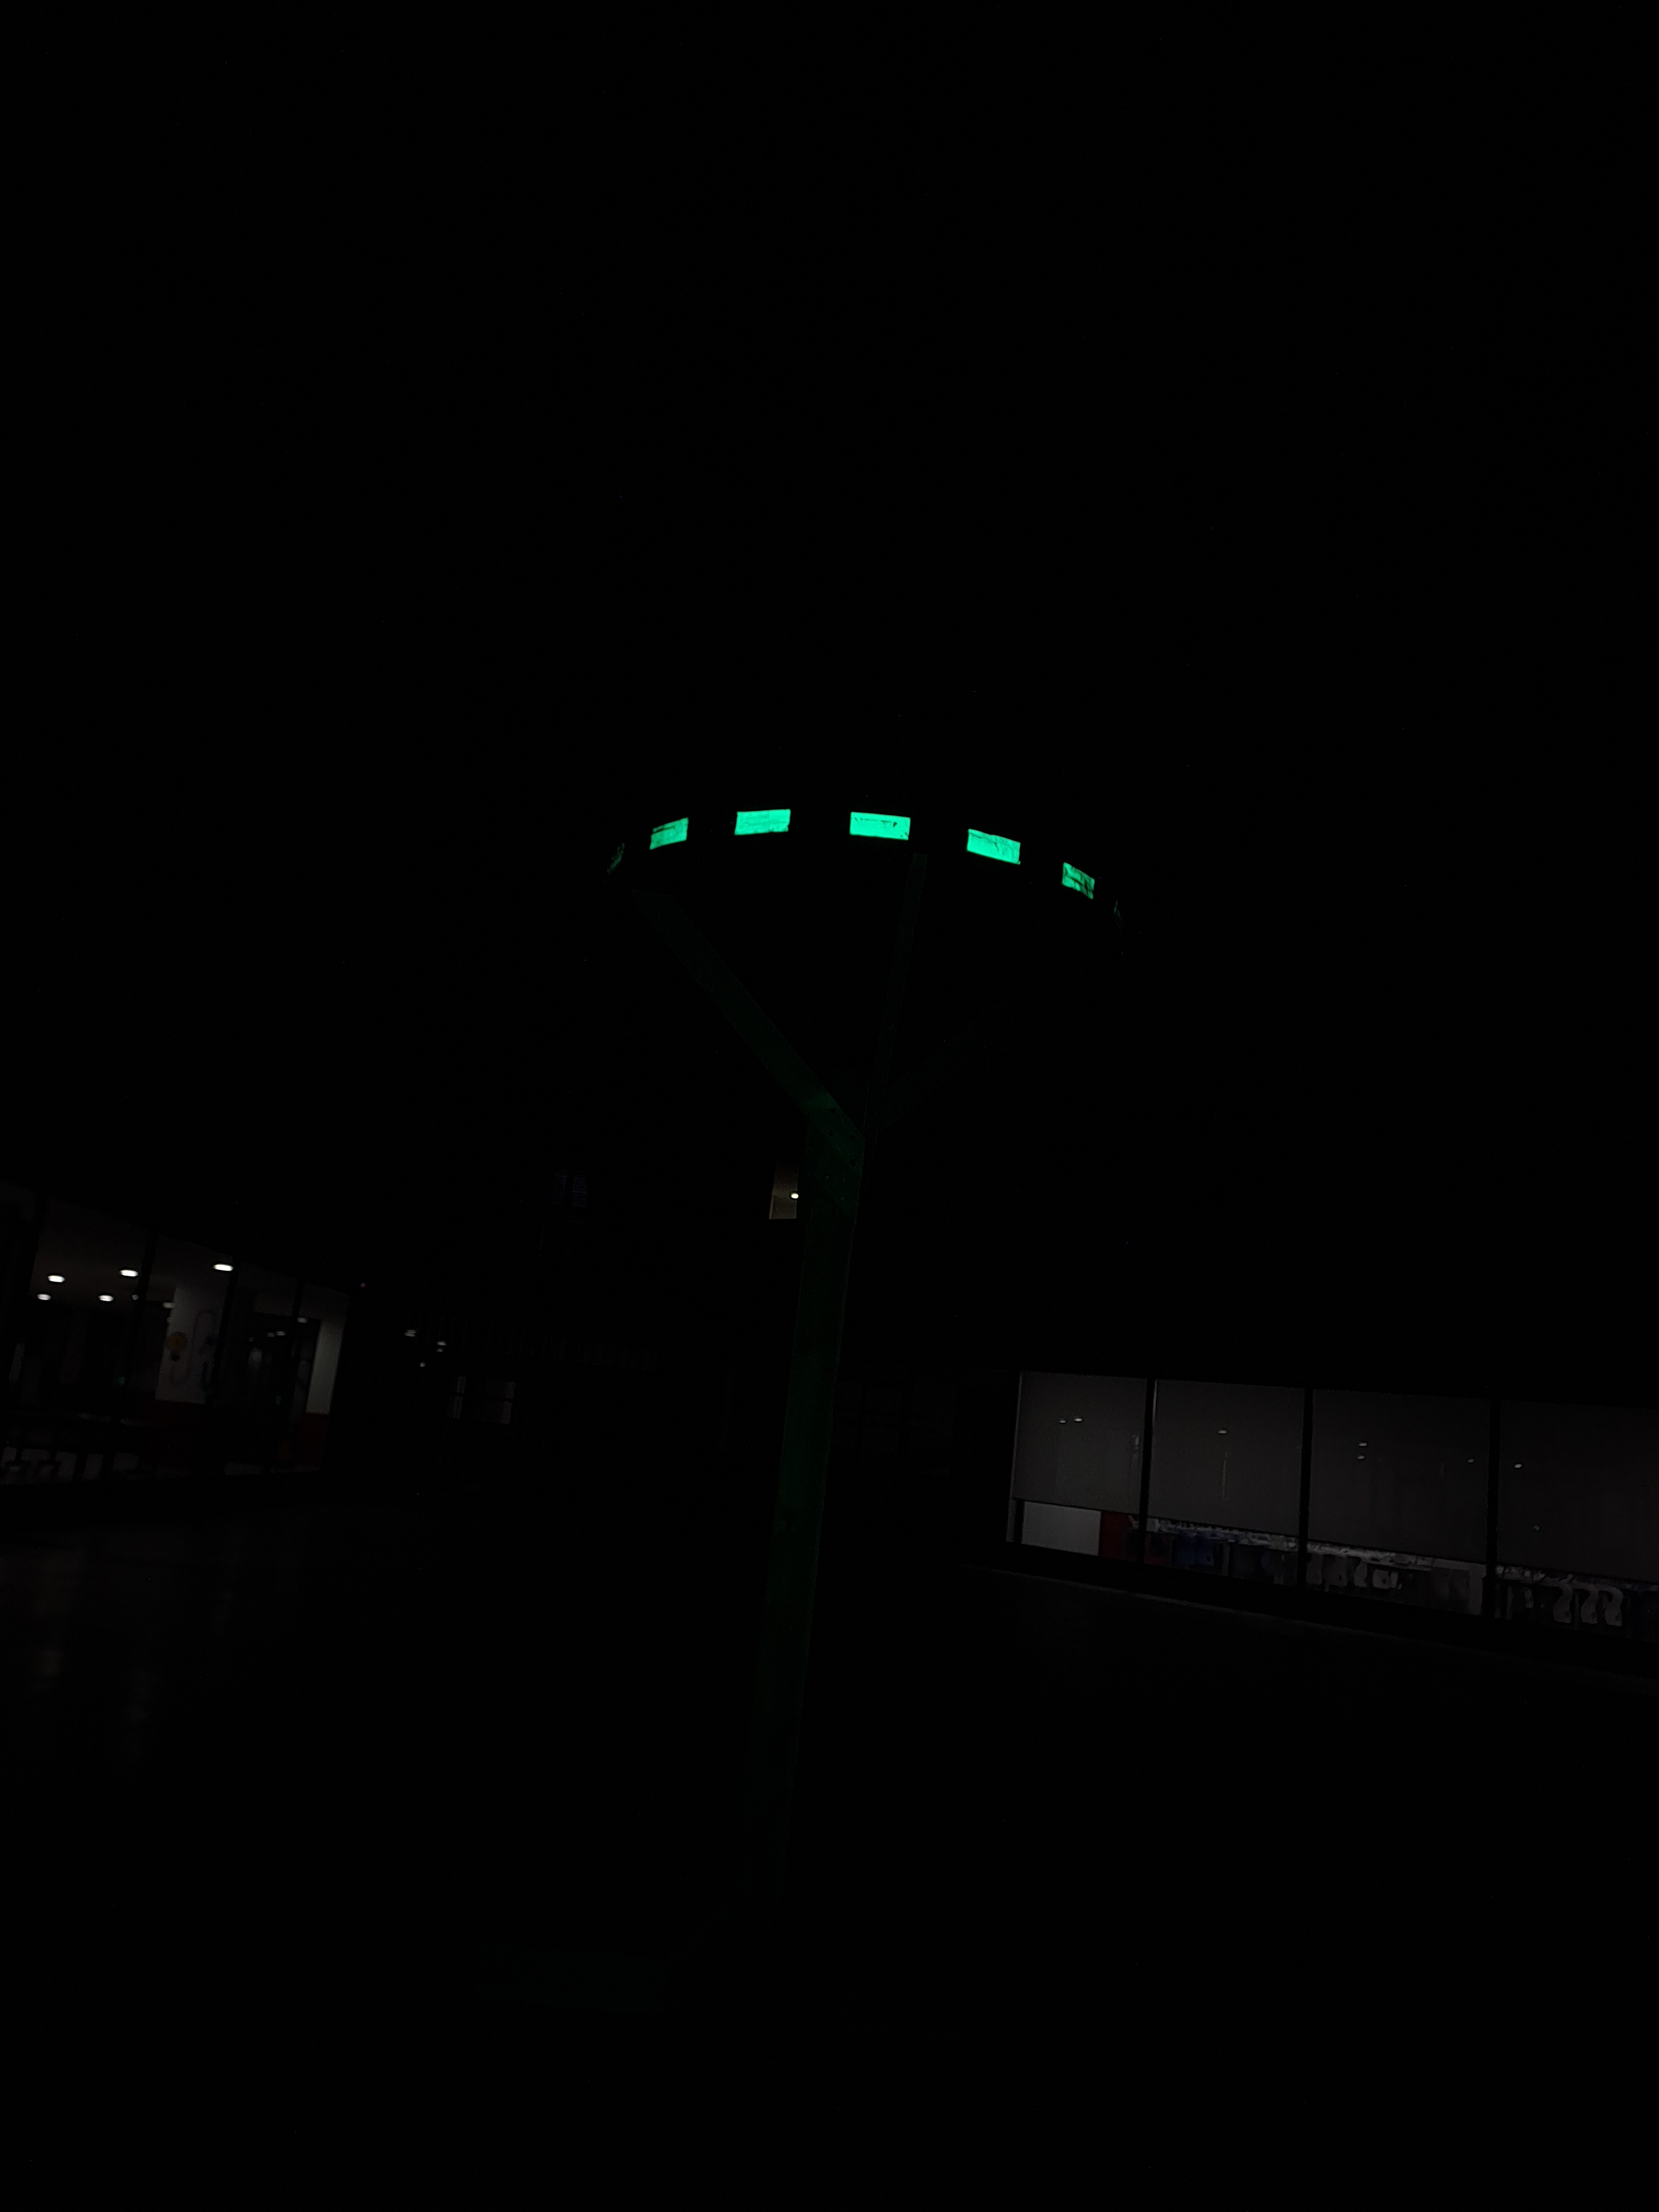hoop: (648, 794, 1098, 906)
